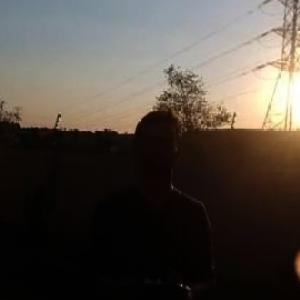follow: (79, 88, 217, 299)
